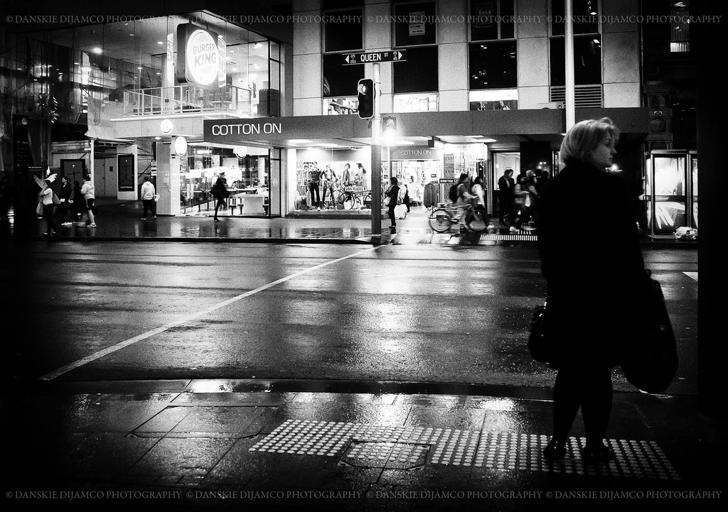non-vehicle: (429, 193, 491, 232), (337, 189, 383, 211)
